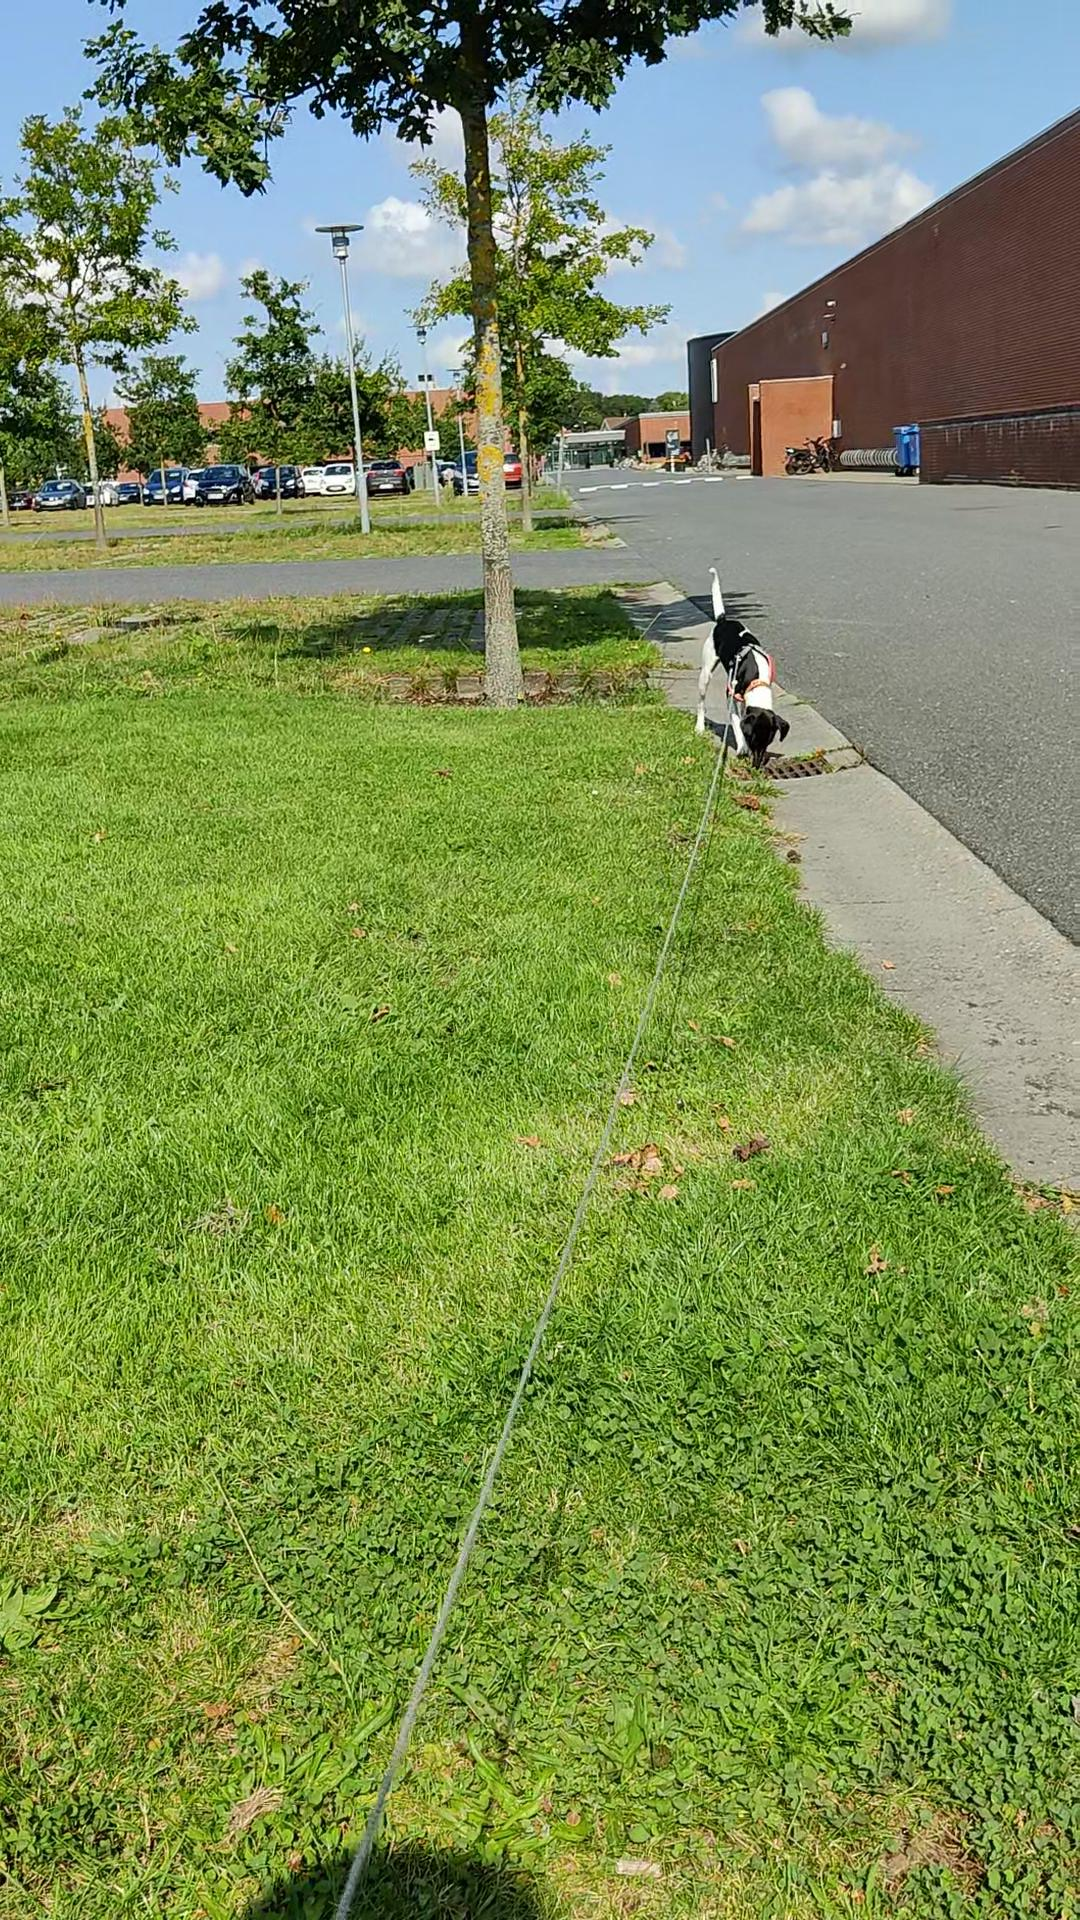Dog: (691, 556, 796, 771)
